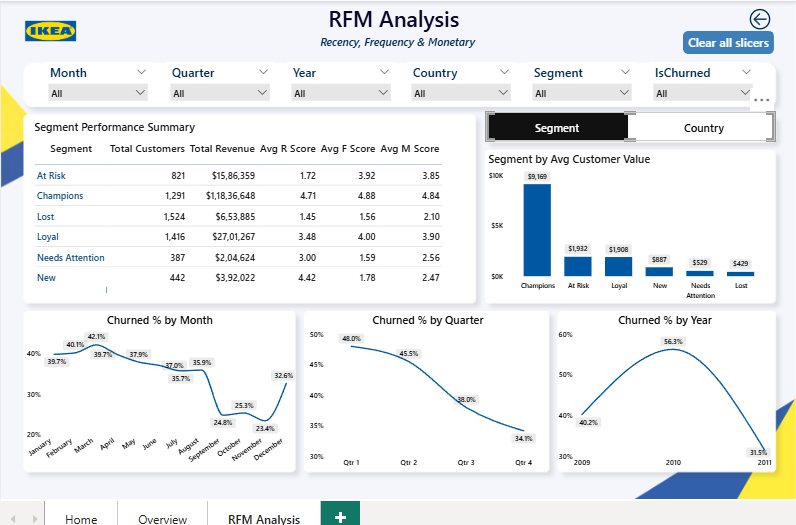

What the dashboard file says about the page in this screenshot:
{"tool":"powerbi","page":{"name":"RFM Analysis","canvas":[1750,1100],"ordinal":2},"visuals":[{"type":"slicer","fields":{"Values":["Sheet1.InvoiceDate.Variation.Date Hierarchy.Month"]},"box":[94.6,134.2,237.6,92.4],"z":0},{"type":"columnChart","title":"Segment by Avg Customer Value","fields":{"Category":["Sheet1.Segment"],"Y":["Meaure_Table.Avg Customer Value"]},"box":[1067,330,633.6,334.4],"z":0,"group":"g2"},{"type":"lineChart","title":"Churned % by Month","fields":{"Category":["Sheet1.InvoiceDate.Variation.Date Hierarchy.Month"],"Y":["Meaure_Table.Churned %"]},"box":[48.4,684.2,602.8,352],"z":0,"group":"g1"},{"type":"slicer","fields":{"Values":["Sheet1.InvoiceDate.Variation.Date Hierarchy.Quarter"]},"box":[362.6,134.2,237.6,92.4],"z":1000},{"type":"tableEx","title":"Segment Performance Summary","fields":{"Values":["Sheet1.Segment","Meaure_Table.Total Customers","Meaure_Table.Total Revenue","Avg(Sheet1.R_Score)","Avg(Sheet1.F_Score)","Avg(Sheet1.M_Score)"]},"box":[68.2,244.2,968,420.2],"z":1000,"group":"g2"},{"type":"lineChart","title":"Churned % by Quarter","fields":{"Category":["Sheet1.InvoiceDate.Variation.Date Hierarchy.Quarter"],"Y":["Meaure_Table.Churned %"]},"box":[673.2,684.2,532.4,352],"z":1000,"group":"g1"},{"type":"slicer","fields":{"Values":["Sheet1.InvoiceDate.Variation.Date Hierarchy.Year"]},"box":[628.3,134.2,237.6,92.4],"z":2000},{"type":"lineChart","title":"Churned % by Year","fields":{"Category":["Sheet1.InvoiceDate.Variation.Date Hierarchy.Year"],"Y":["Meaure_Table.Churned %"]},"box":[1221,684.2,479.6,352],"z":2000,"group":"g1"},{"type":"slicer","fields":{"Values":["Sheet1.Country"]},"box":[894.1,134.2,237.6,92.4],"z":3000},{"type":"slicer","fields":{"Values":["Sheet1.Segment"]},"box":[1159.8,134.2,237.6,92.4],"z":4000},{"type":"slicer","fields":{"Values":["Sheet1.IsChurned"]},"box":[1425.6,134.2,237.6,92.4],"z":5000},{"type":"group","id":"g1","title":"Customers","box":[48.4,684.2,1652.2,352],"z":6000},{"type":"bookmarkNavigator","box":[1065.9,243.2,636.4,65.9],"z":8000},{"type":"image","box":[28.6,17.6,160.6,96.8],"z":9000},{"type":"textbox","box":[714.4,0,321.2,88],"z":10000},{"type":"textbox","box":[697.4,68.2,356.4,48.4],"z":11000},{"type":"actionButton","box":[1636.8,11,66,55],"z":12000},{"type":"actionButton","box":[1500.4,66,200.2,50.6],"z":13000},{"type":"shape","box":[149.6,310.2,165,332.2],"z":14000},{"type":"group","id":"g2","title":"Segment2","box":[68.2,244.2,1632.4,420.2],"z":16000}]}

Visuals, with their boxes on the page's 1750x1100 design canvas (x1, y1, x2, y2). These are canvas units, not pixel positions in the 796x525 screenshot, which may show the page scaled, cropped or inside an application window:
slicer - Sheet1.InvoiceDate.Variation.Date Hierarchy.Month: BBox(95, 134, 332, 227)
"Segment by Avg Customer Value" columnChart: BBox(1067, 330, 1701, 664)
"Churned % by Month" lineChart: BBox(48, 684, 651, 1036)
slicer - Sheet1.InvoiceDate.Variation.Date Hierarchy.Quarter: BBox(363, 134, 600, 227)
"Segment Performance Summary" tableEx: BBox(68, 244, 1036, 664)
"Churned % by Quarter" lineChart: BBox(673, 684, 1206, 1036)
slicer - Sheet1.InvoiceDate.Variation.Date Hierarchy.Year: BBox(628, 134, 866, 227)
"Churned % by Year" lineChart: BBox(1221, 684, 1701, 1036)
slicer - Sheet1.Country: BBox(894, 134, 1132, 227)
slicer - Sheet1.Segment: BBox(1160, 134, 1397, 227)
slicer - Sheet1.IsChurned: BBox(1426, 134, 1663, 227)
"Customers" group: BBox(48, 684, 1701, 1036)
bookmarkNavigator: BBox(1066, 243, 1702, 309)
image: BBox(29, 18, 189, 114)
textbox: BBox(714, 0, 1036, 88)
textbox: BBox(697, 68, 1054, 117)
actionButton: BBox(1637, 11, 1703, 66)
actionButton: BBox(1500, 66, 1701, 117)
shape: BBox(150, 310, 315, 642)
"Segment2" group: BBox(68, 244, 1701, 664)
